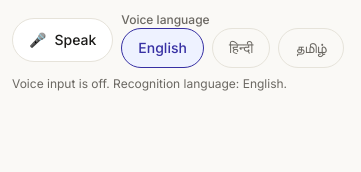
Test case: VoiceInput (supported browser) › shows a plain-language fallback when permission is denied
Click the button with aria-label "start voice input": coordinates (63, 40) [12,18,113,62]
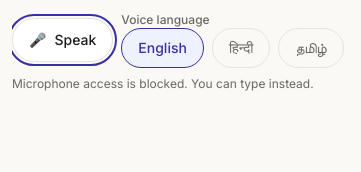
Result: the text "Microphone access is blocked. You can type instead." is shown at [12,76,314,91]
